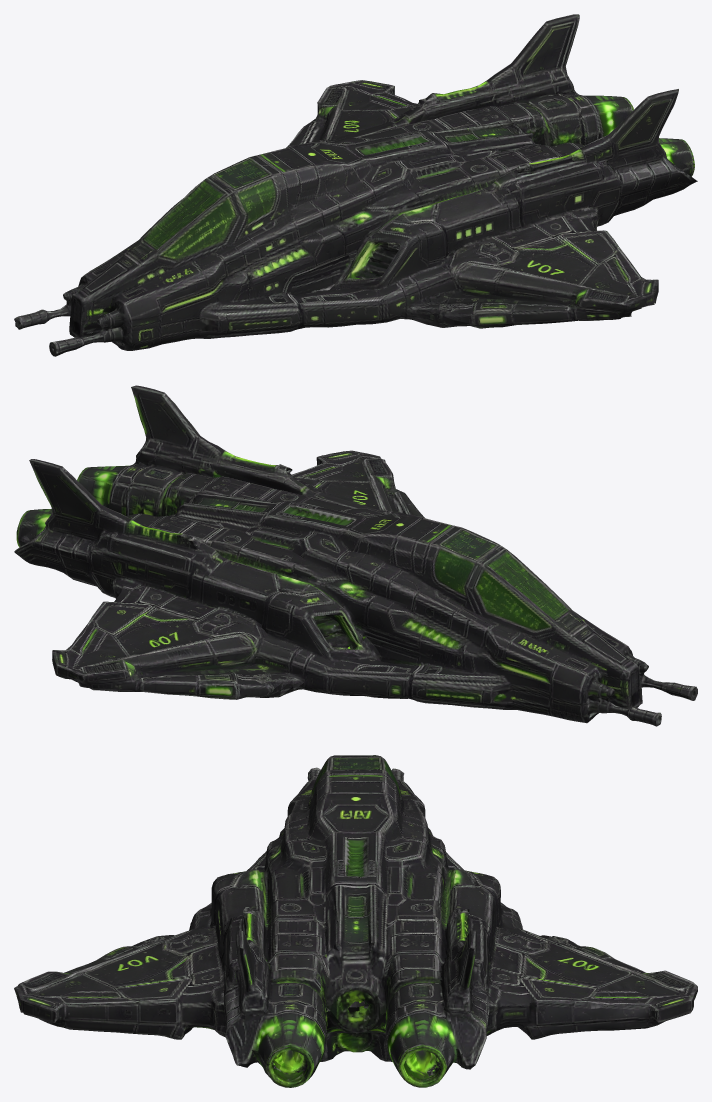
Rendered from ship6.glb.
The picture shows the model from 3 angles, top to bottom: view 1: azimuth 30°, elevation 25°; view 2: azimuth 150°, elevation 25°; view 3: azimuth 270°, elevation 25°; orthographic projection. The views are drawn at different scales.
Visible parts, largest first — view 1: Mesh0; view 2: Mesh0; view 3: Mesh0.
Boxes of the visible parts, box(x1,y1,x2,y2) form: Mesh0: box(14, 14, 697, 356); Mesh0: box(14, 385, 697, 726); Mesh0: box(14, 755, 697, 1087).
Bounding box in the file's own units: 1.91 × 0.4737 × 1.59.
Materials: 1 (1 with a texture image).
